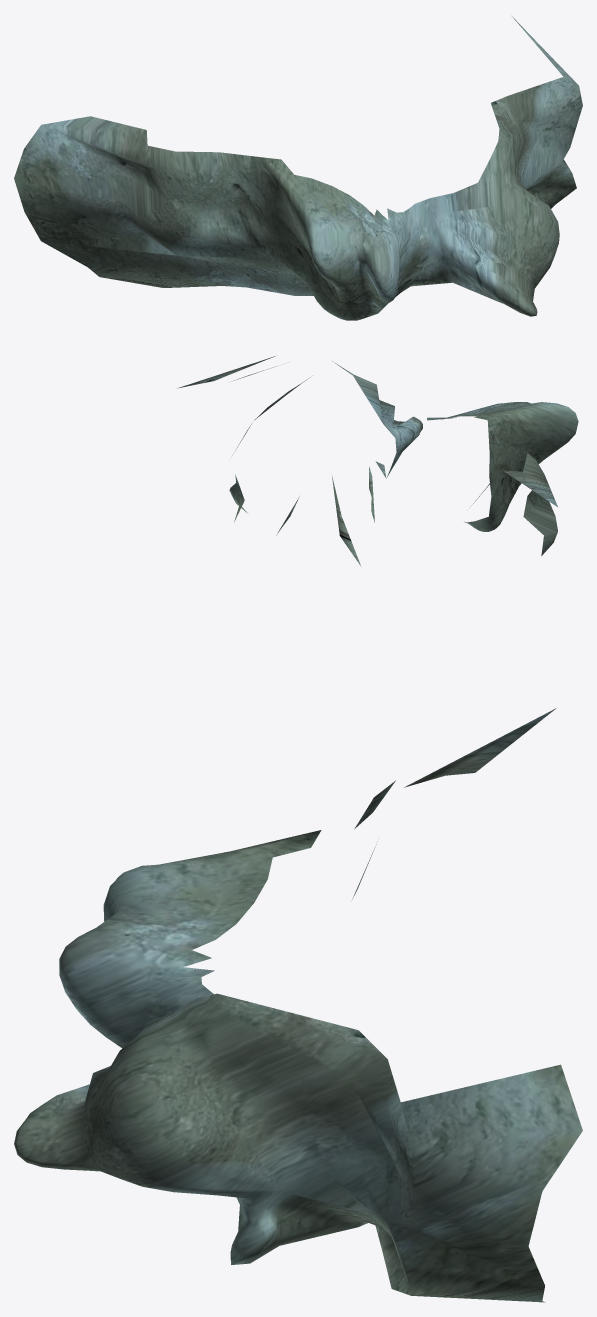
3 views of the same model, one above another, from view 1: azimuth 30°, elevation 25°; view 2: azimuth 150°, elevation 25°; view 3: azimuth 270°, elevation 25° (orthographic). The views are drawn at different scales.
Visible parts, largest first — view 1: model_Object01; view 2: model_Object01; view 3: model_Object01.
Boxes of the visible parts, x1,y1,x2,y2 form: model_Object01: (14,16,582,320); model_Object01: (178,356,578,565); model_Object01: (14,708,582,1302).
Bounding box in the file's own units: 4.64 × 1.67 × 2.78.
Materials: 1 (1 with a texture image).
